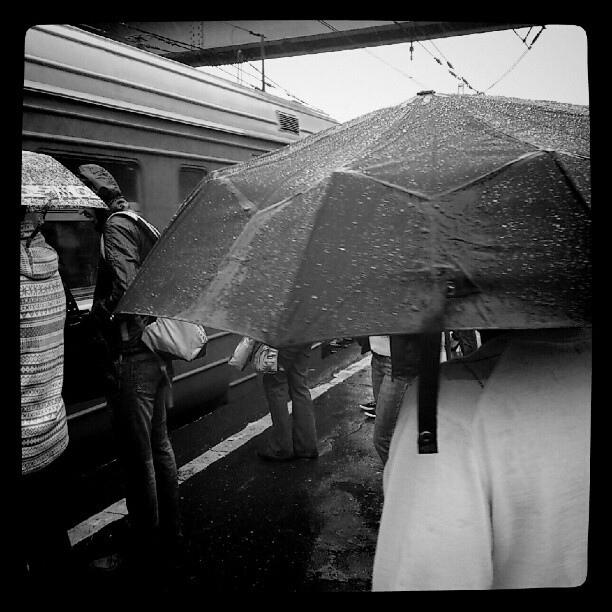Train: (25, 28, 345, 231)
